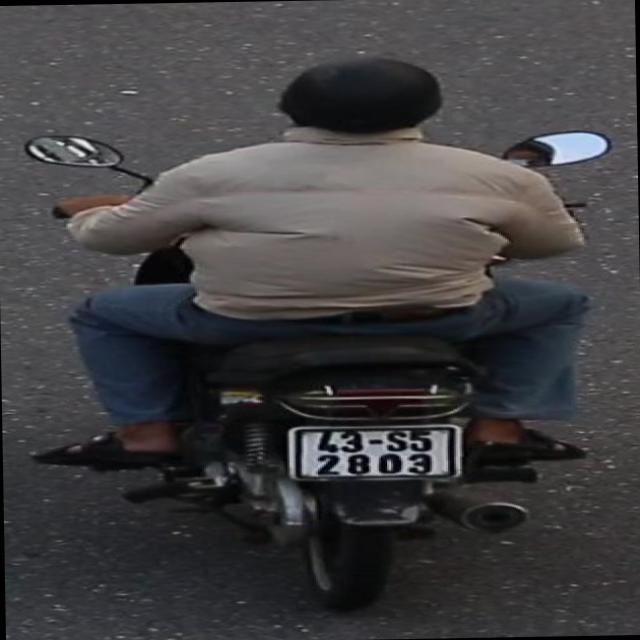LP: (278, 418, 472, 486)
helmet: (270, 48, 451, 151)
